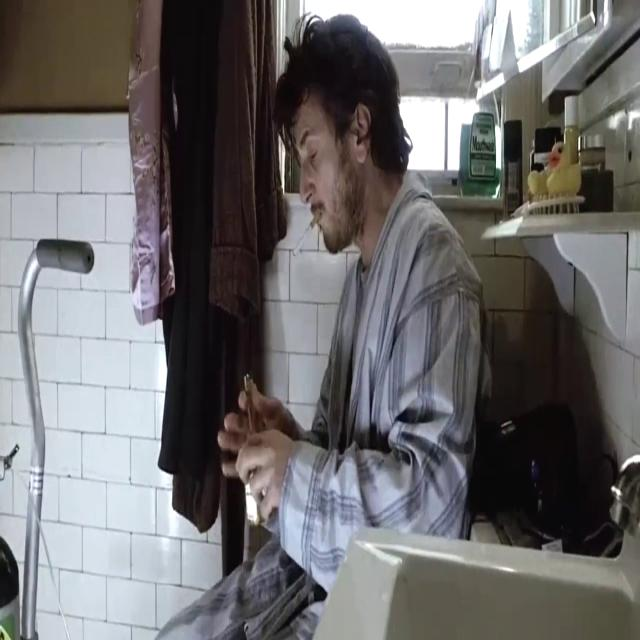Smooking: (282, 208, 326, 262)
